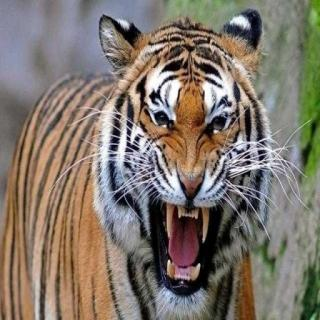Tiger: (1, 6, 277, 320)
